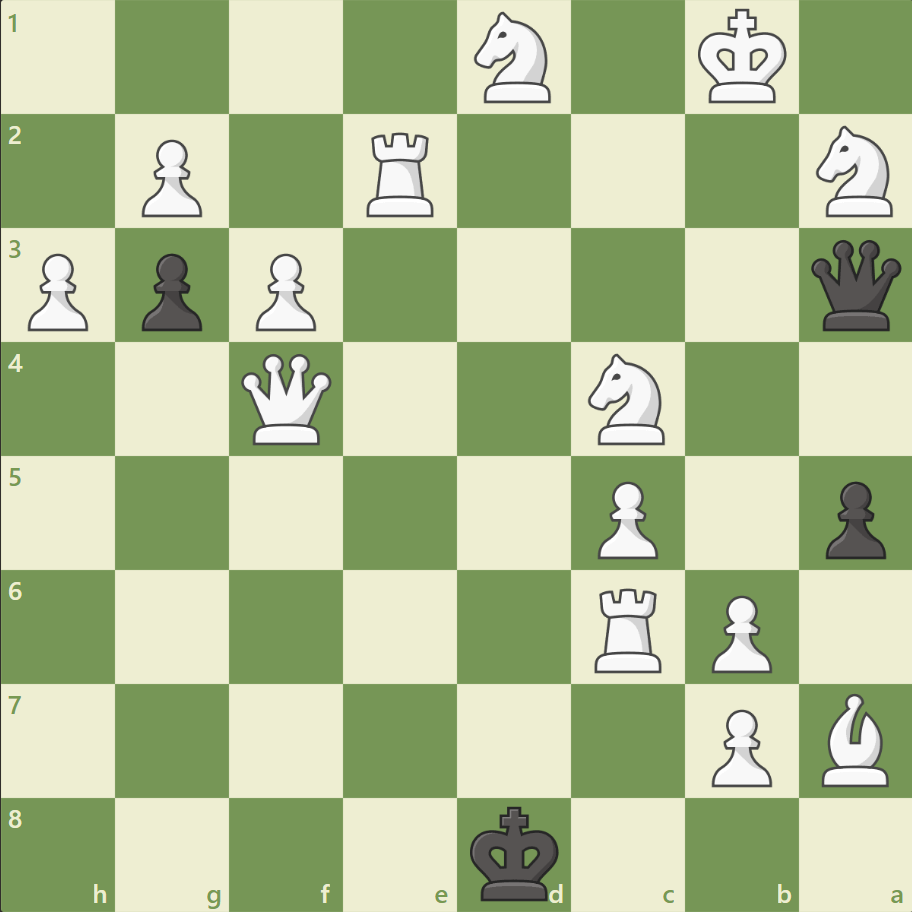B: (812, 687, 896, 790)
K: (692, 4, 792, 112)
N: (465, 7, 562, 110), (579, 348, 676, 450), (806, 121, 903, 223)
P: (701, 700, 776, 791), (701, 586, 776, 677), (247, 246, 322, 337), (20, 246, 95, 337), (133, 132, 208, 223), (588, 473, 662, 564)
Q: (237, 349, 336, 449)
R: (587, 579, 670, 676), (360, 125, 442, 222)
k: (465, 798, 565, 906)
p: (133, 246, 208, 337), (815, 473, 889, 564)
q: (805, 236, 904, 335)
